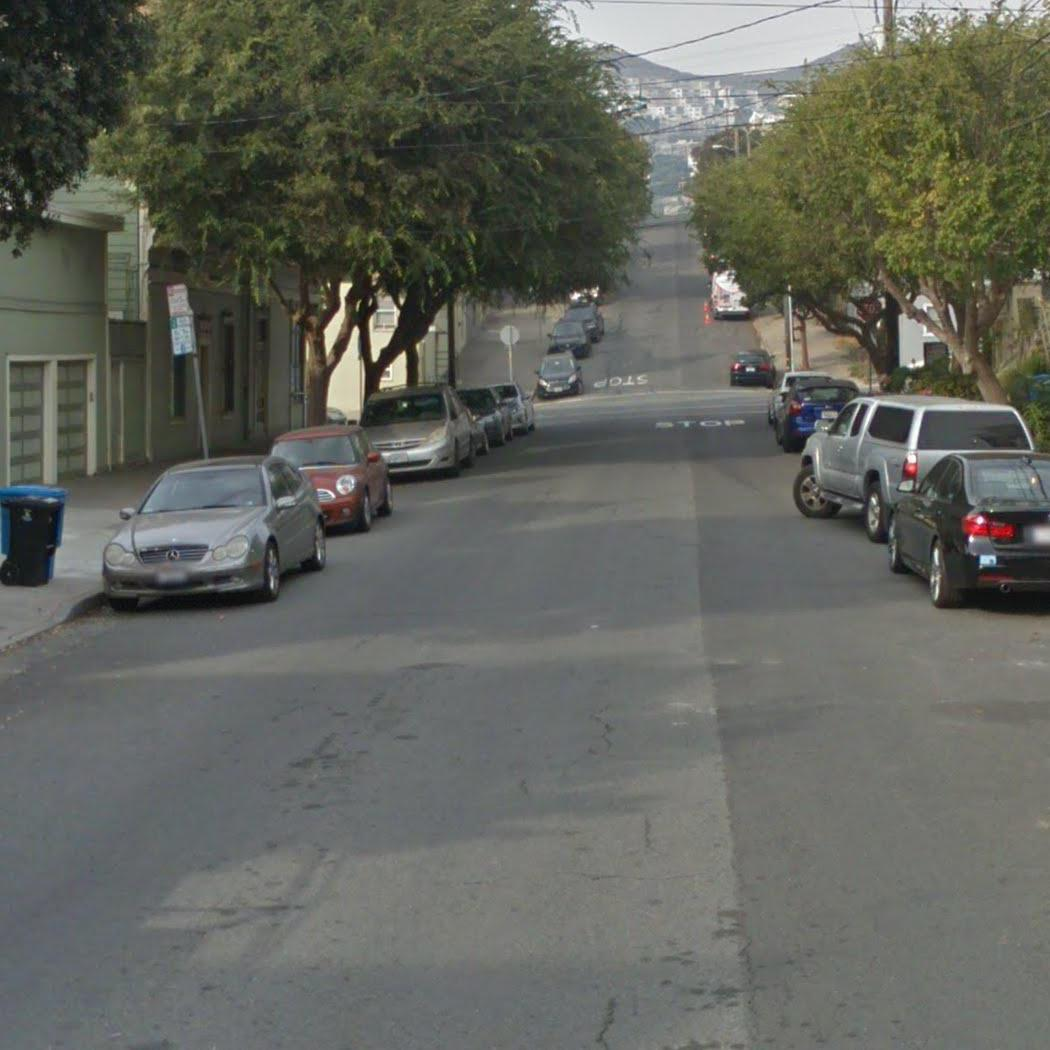2 Hour Parking: (169, 316, 197, 357)
No Parking: (165, 283, 191, 318)
